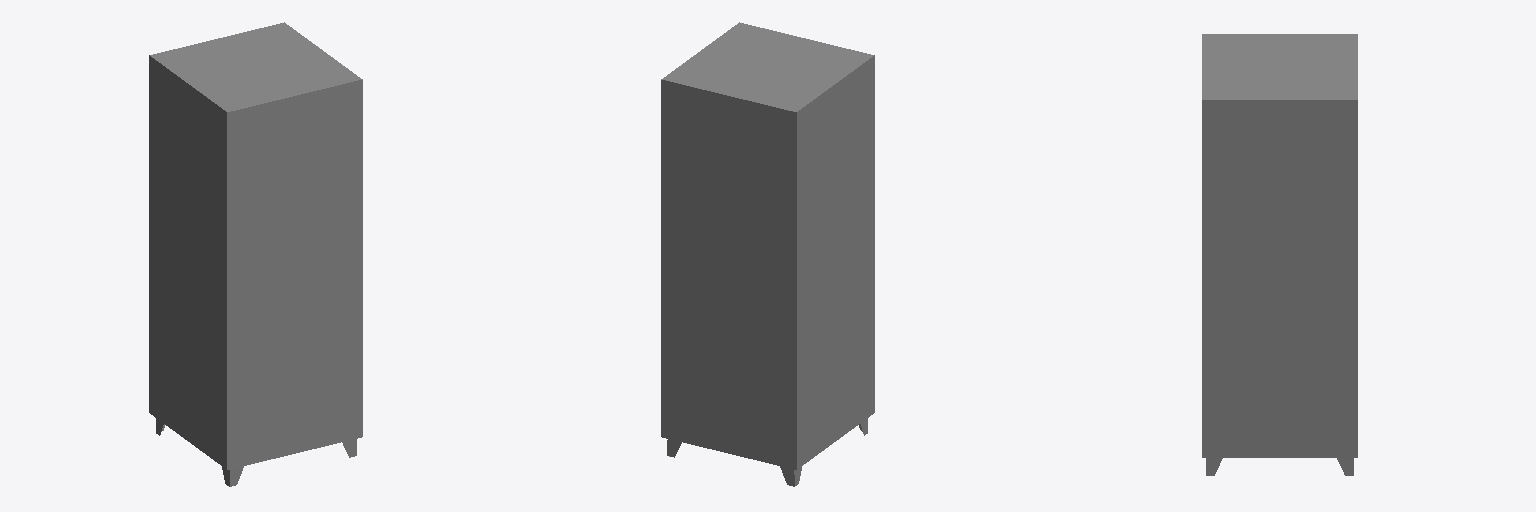
The model's file is cabinet.obj.
3 views of the same model, side by side, from view 1: azimuth 30°, elevation 25°; view 2: azimuth 150°, elevation 25°; view 3: azimuth 270°, elevation 25° (orthographic).
Parts seen in each view (by area): view 1: cabinet; view 2: cabinet; view 3: cabinet.
Boxes of the visible parts, x1=… form: cabinet: x1=149, y1=22, x2=362, y2=486; cabinet: x1=661, y1=22, x2=874, y2=486; cabinet: x1=1202, y1=34, x2=1357, y2=475.
Bounding box in the file's own units: 90 × 240 × 90.